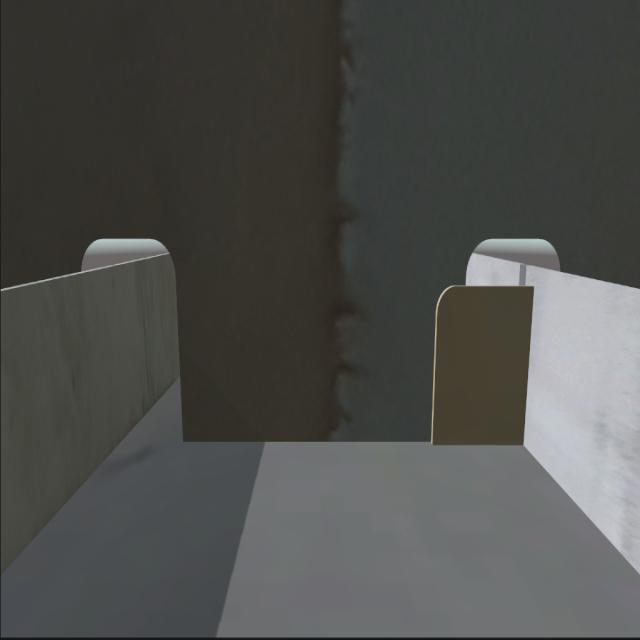fillet_yong_jeop_jang: (177, 431, 534, 454)
longi_yong_jeop_jang: (515, 281, 541, 449)
plate_CP05: (433, 284, 530, 444)
